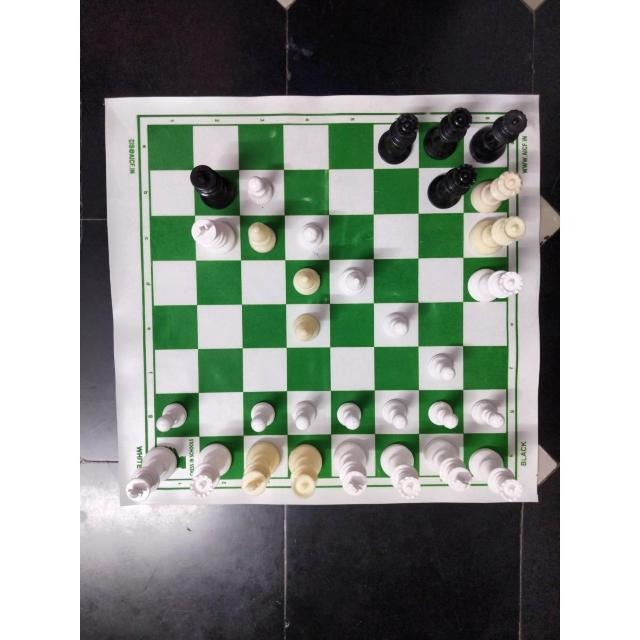black-king: (187, 163, 239, 212)
black-queen: (468, 101, 531, 165), (422, 105, 474, 161), (376, 109, 420, 172), (423, 165, 477, 213)
white-bishop: (289, 309, 328, 348), (242, 216, 278, 257), (291, 266, 326, 302), (334, 262, 367, 298)
white-king: (125, 445, 181, 501), (423, 435, 474, 492), (239, 432, 280, 496), (329, 439, 371, 499), (189, 214, 238, 256)
white-pawn: (147, 401, 197, 432), (378, 396, 416, 432), (378, 306, 415, 342), (242, 173, 278, 209), (425, 352, 461, 388), (334, 399, 367, 437), (469, 397, 508, 429), (246, 398, 282, 432), (288, 400, 325, 433), (425, 396, 461, 429), (295, 221, 327, 255)
white-queen: (464, 438, 526, 502), (463, 258, 527, 306), (376, 440, 424, 500), (189, 435, 235, 496), (469, 166, 525, 216), (463, 214, 529, 254), (286, 440, 325, 502)
